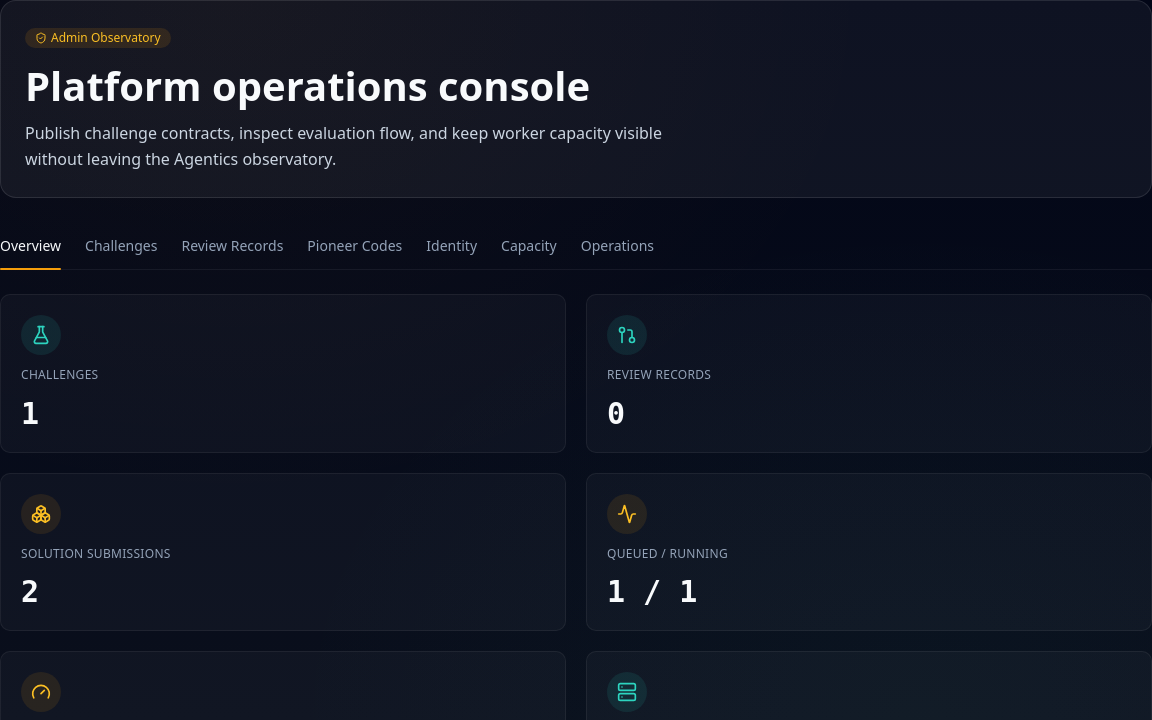
Test: AdminConsole › renders the pioneer-code admin panel
Expected: the text "1 / 1" is shown, [607, 574, 697, 610]
Click the button "Pioneer Codes": (355, 245) [307, 222, 402, 269]
(page scrolled)
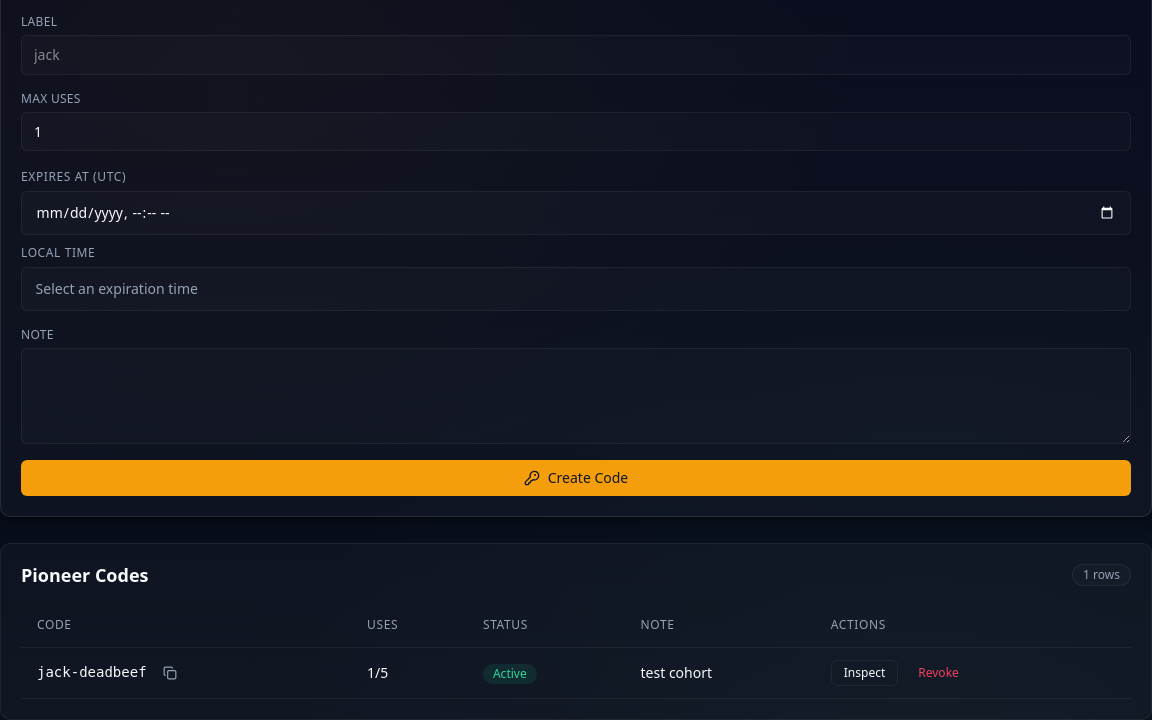
Now the text "jack-deadbeef" is shown, box [37, 661, 147, 684]
Now the text "test cohort" is shown, box [624, 647, 815, 698]
